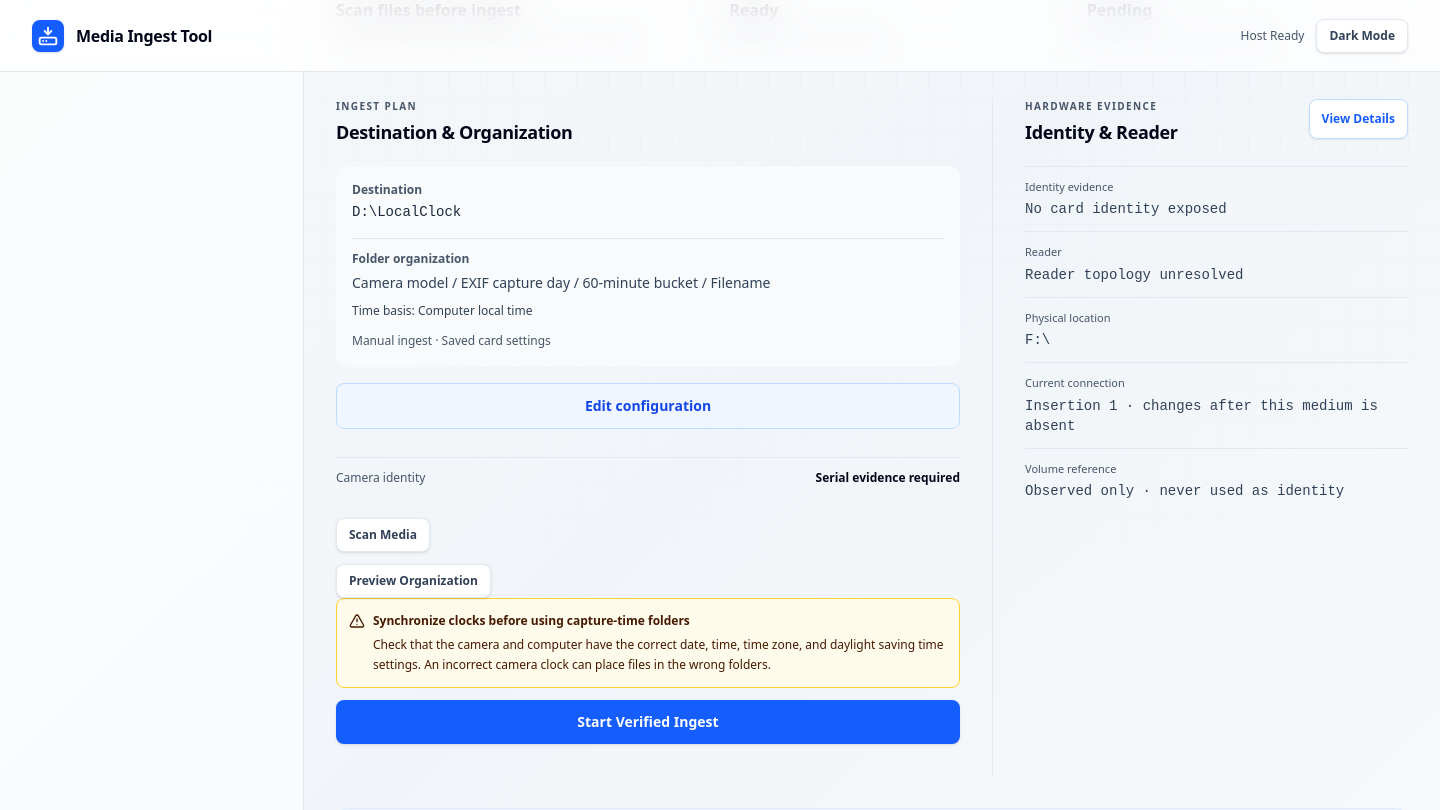
native computer-time settings rehydrate and cancelled clock edits stay isolated
The width and height of the screenshot is (1440, 810).
(page scrolled)
Expected: the text "Time basis: Computer local time" is shown, [352, 302, 532, 318]
Click the button "Edit configuration" at (648, 406), box [336, 382, 960, 428]
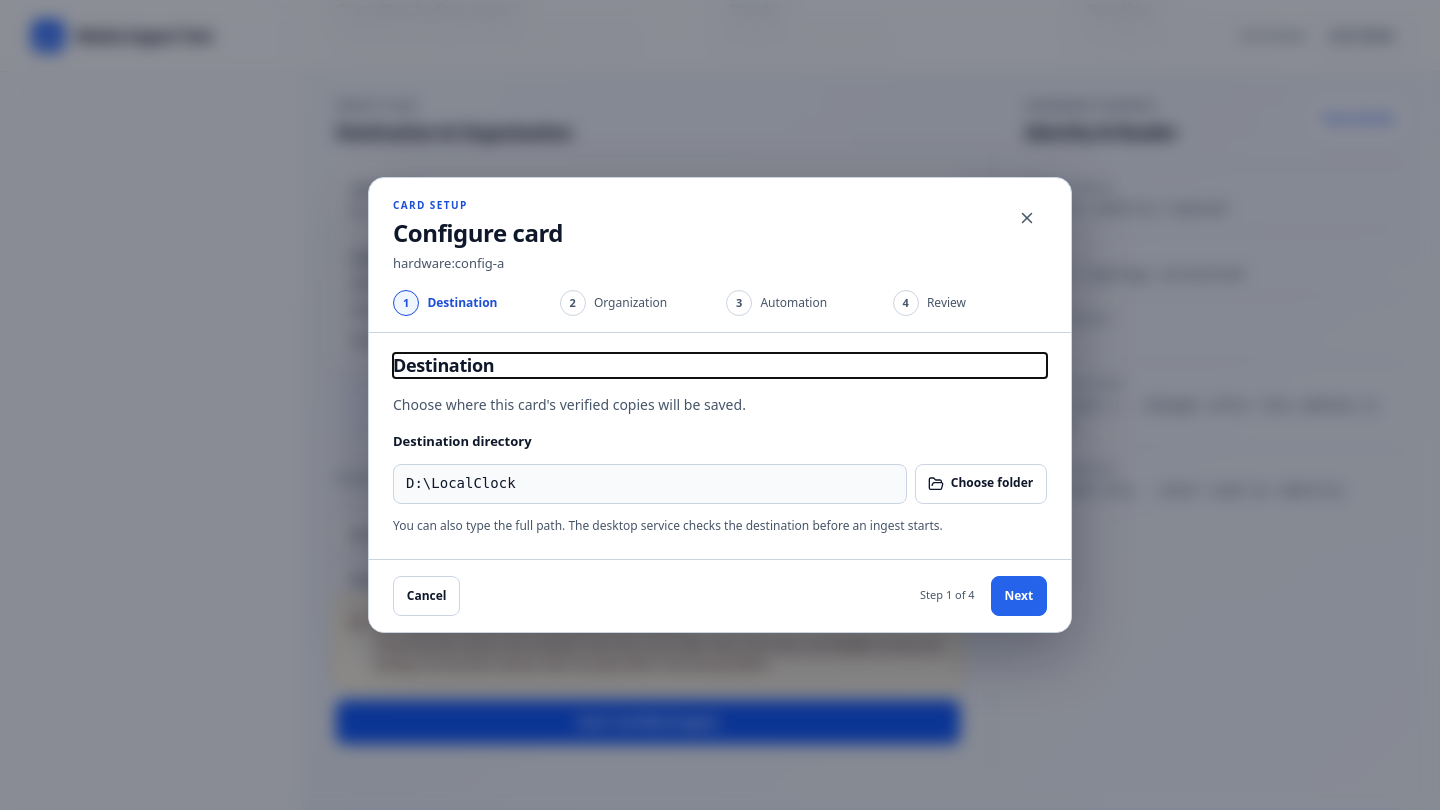
Click the button "Next" at (1019, 596), box [991, 576, 1047, 616]
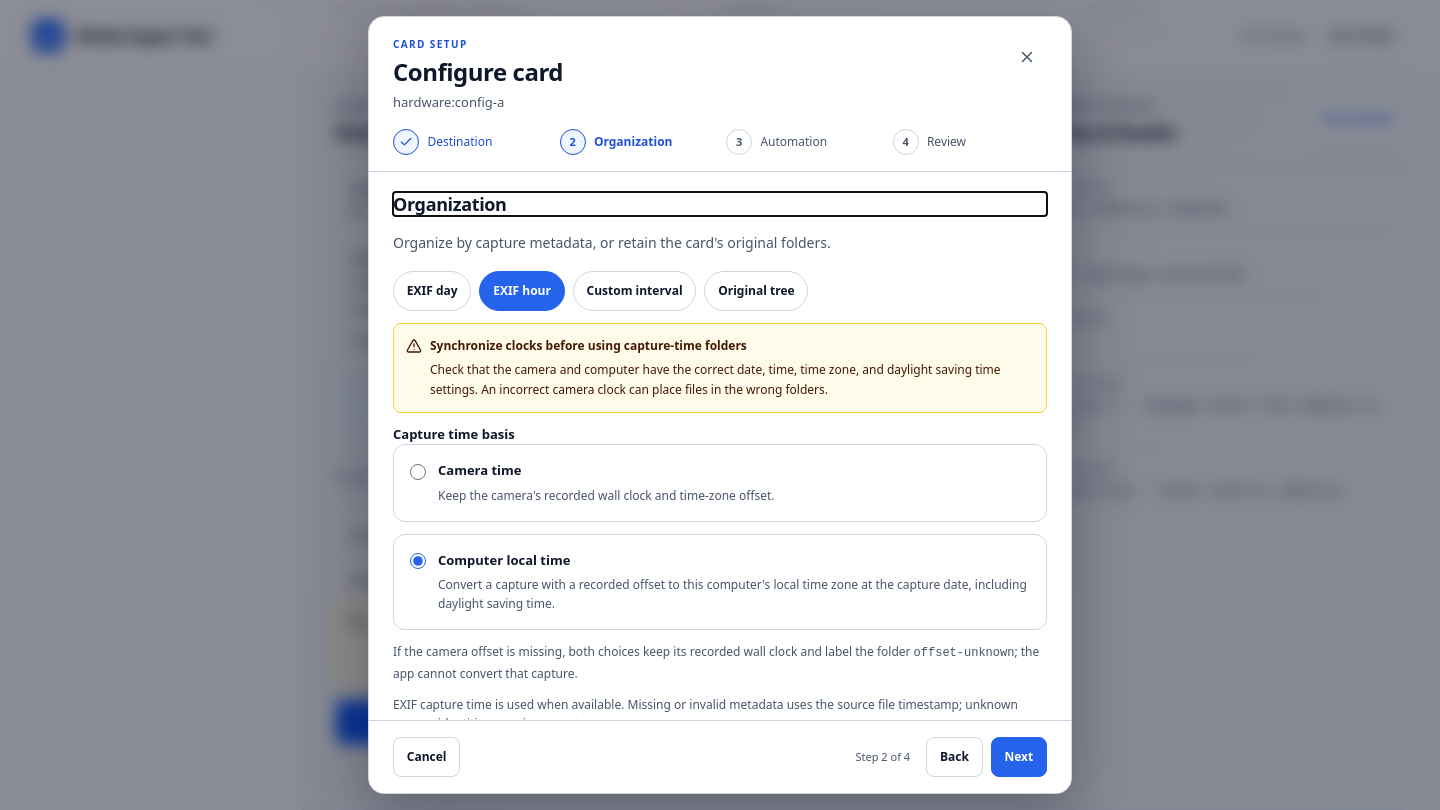
Expected: the radio button labelled "Computer local time" is checked, [410, 553, 426, 569]
Click the radio button labelled "Camera time" at (418, 472), box [410, 464, 426, 480]
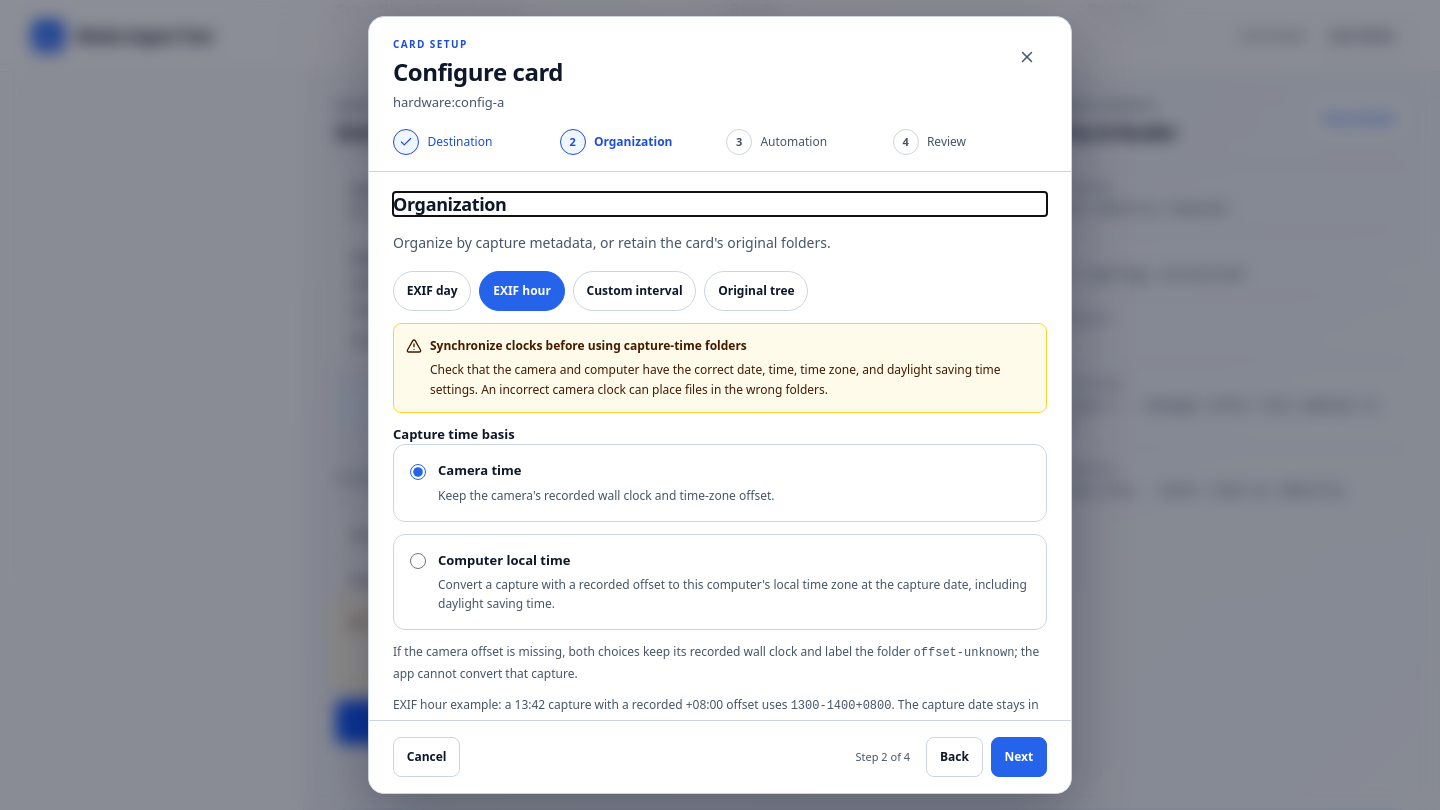
Click the button "Cancel" at (427, 757), box [393, 737, 460, 777]
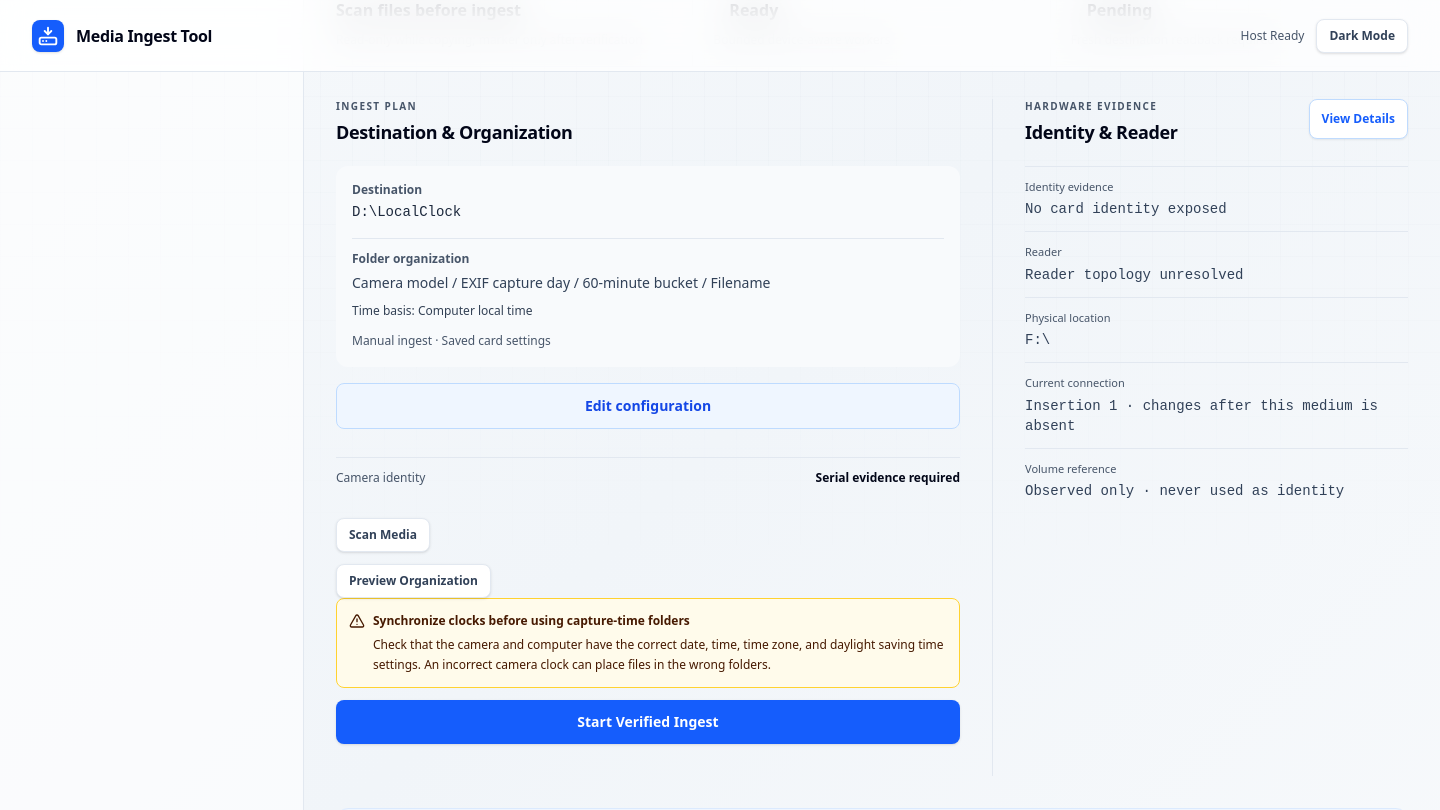
Expected: the text "Time basis: Computer local time" is shown, [352, 302, 532, 318]
Click the button "Edit configuration" at (648, 406), box [336, 382, 960, 428]
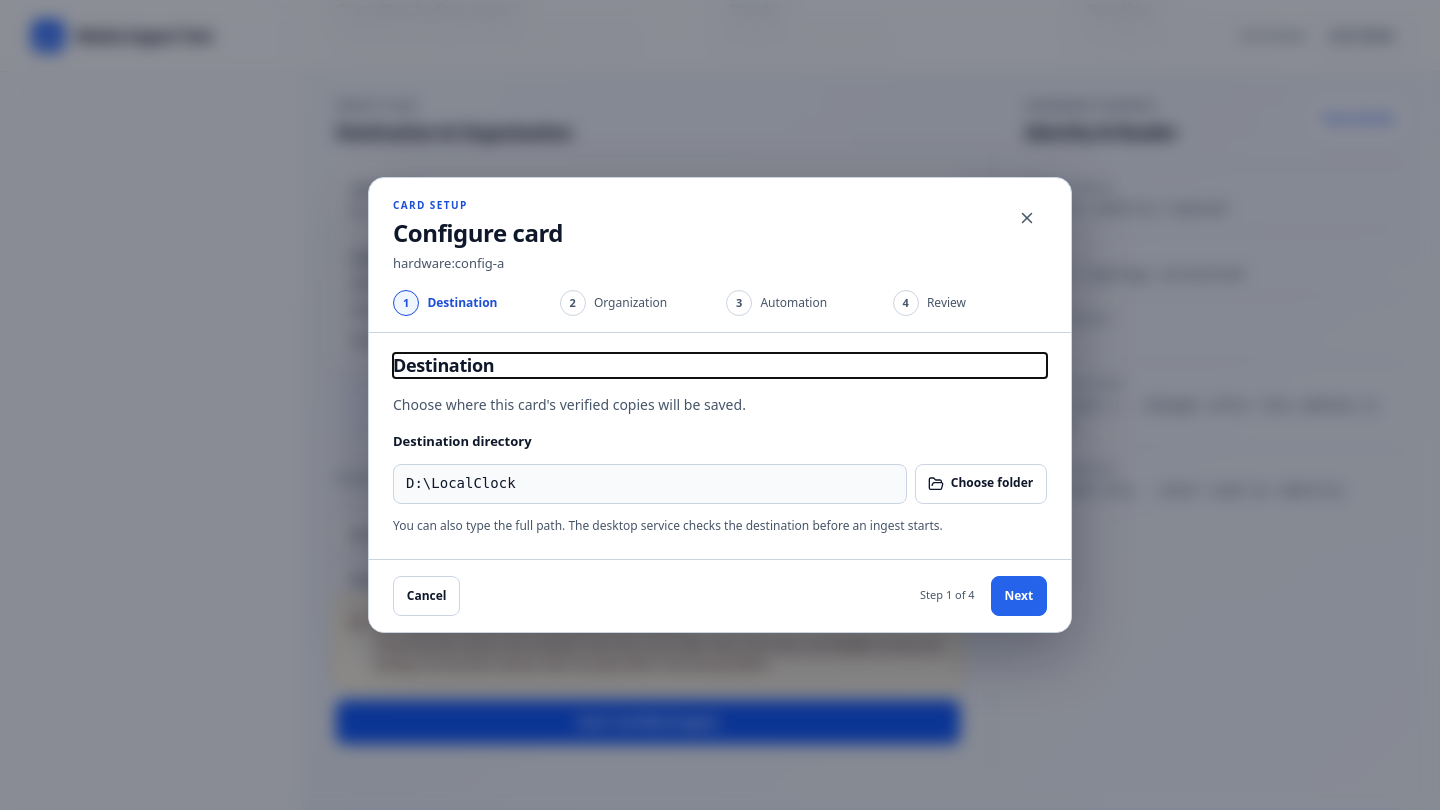
Click the button "Next" at (1019, 596), box [991, 576, 1047, 616]
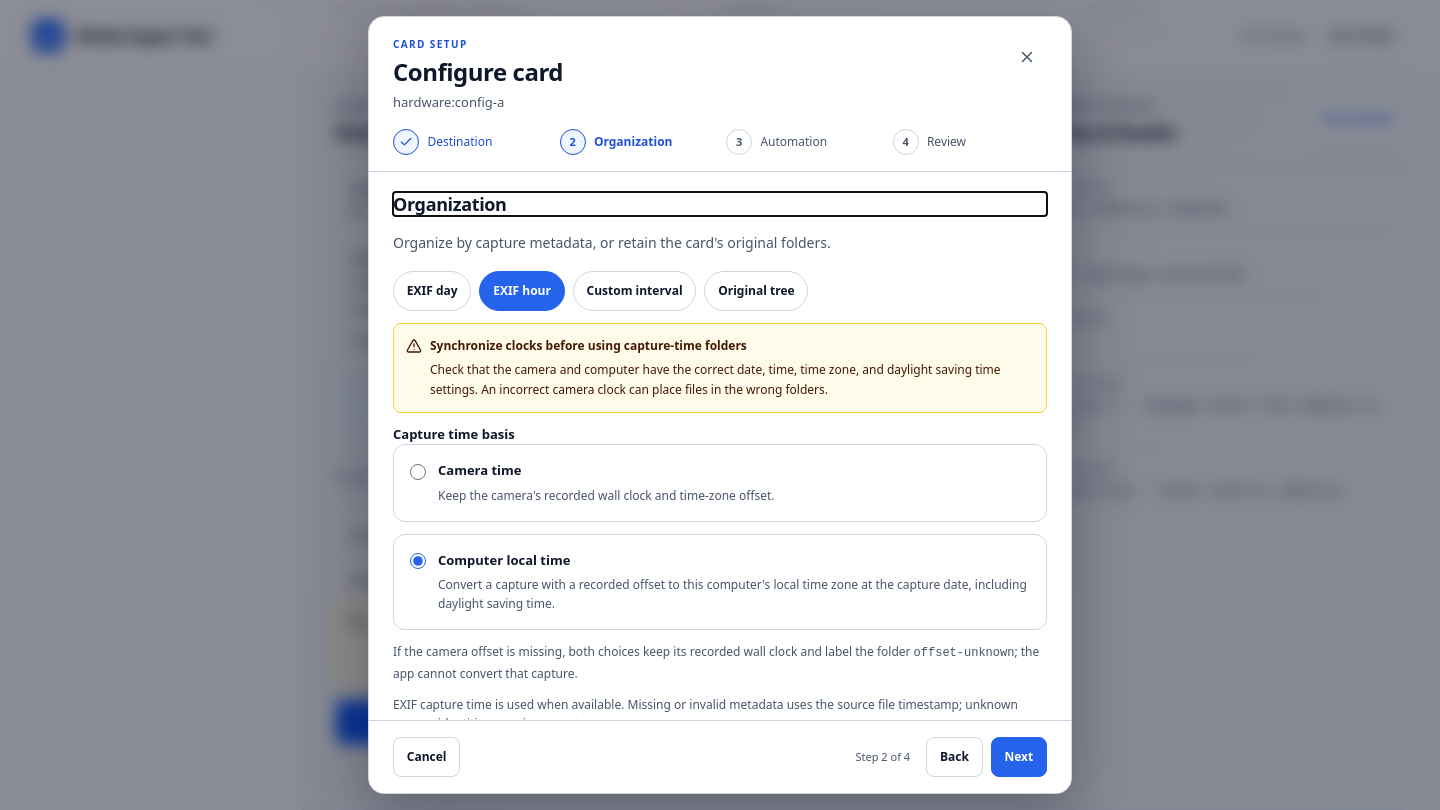
Expected: the radio button labelled "Computer local time" is checked, [410, 553, 426, 569]
